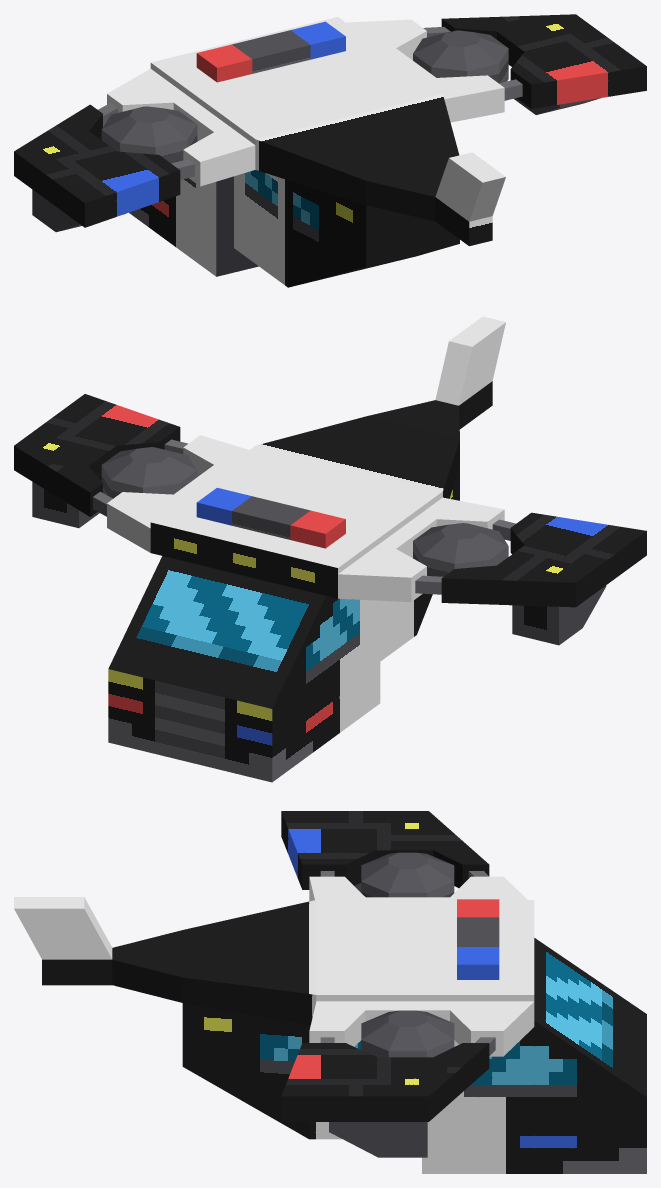
File: Cyperpunk_Hovercar.gltf
3 views of the same model, one above another, from view 1: azimuth 30°, elevation 25°; view 2: azimuth 150°, elevation 25°; view 3: azimuth 270°, elevation 25° (orthographic). The views are drawn at different scales.
Parts seen in each view (by area): view 1: Top, Middle, LeftWing2, RightWing2, Front, LeftWing1, RightWing1, LeftBooster, RightBooster, Light Fixture, Red Light, Blue Light (+1 smaller); view 2: Front, Top, LeftWing2, RightWing2, LeftWing1, RightWing1, LeftBooster, RightBooster, Thing2, Middle, Light Fixture, Red Light (+2 smaller); view 3: Top, Front, RightWing2, Middle, LeftWing2, RightWing1, RightBooster, LeftBooster, Thing1, LeftWing1, Blue Light, Light Fixture (+1 smaller).
Boxes of the visible parts, x1,y1,x2,y2 form: Top: (150,17,505,246); Middle: (234,170,459,287); LeftWing2: (14,104,180,227); RightWing2: (441,14,646,108); Front: (129,176,258,276); LeftWing1: (107,68,255,186); RightWing1: (346,19,504,122); LeftBooster: (101,106,197,163); RightBooster: (413,30,508,83); Light Fixture: (232,30,310,73); Red Light: (196,44,252,82); Blue Light: (290,21,345,59); Front: (108,556,380,782); Top: (150,316,505,598); LeftWing2: (441,512,646,607); RightWing2: (14,394,180,516); LeftWing1: (338,497,504,601); RightWing1: (107,435,248,552); LeftBooster: (413,523,508,576); RightBooster: (101,447,197,498); Thing2: (512,585,606,645); Middle: (380,465,459,661); Light Fixture: (232,496,310,539); Red Light: (290,510,345,548); Top: (14,897,534,1025); Front: (422,938,646,1173); RightWing2: (281,1043,489,1121); Middle: (182,1003,361,1139); LeftWing2: (281,811,489,889); RightWing1: (309,1001,534,1056); RightBooster: (361,1010,454,1057); LeftBooster: (361,852,454,897); Thing1: (329,1122,427,1157); LeftWing1: (309,876,527,901); Blue Light: (457,947,499,979); Light Fixture: (457,917,499,946).
Bounding box in the file's own units: 3 × 1.12 × 2.81.
1 material, 1 textured.
